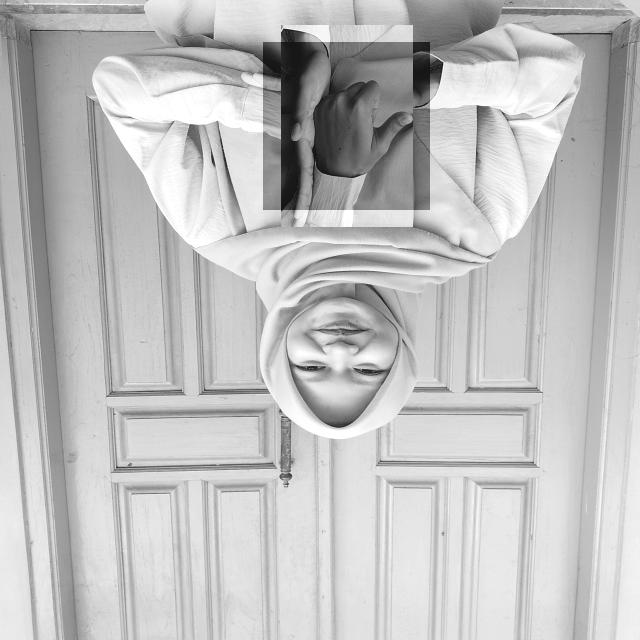cantik: (263, 42, 430, 210)
